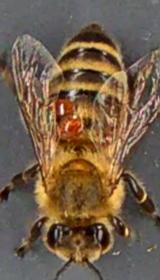varroa_mite: (54, 106, 90, 142), (45, 88, 81, 117)
